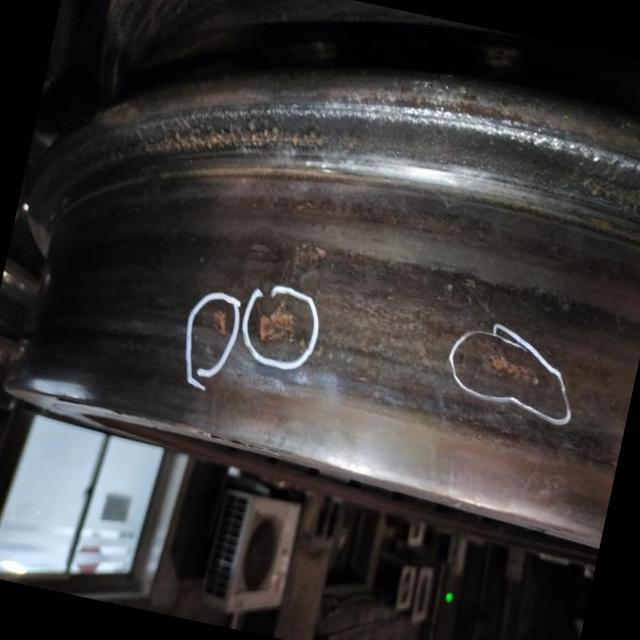Peeling: (255, 297, 300, 350), (479, 353, 543, 388), (209, 310, 232, 338)
